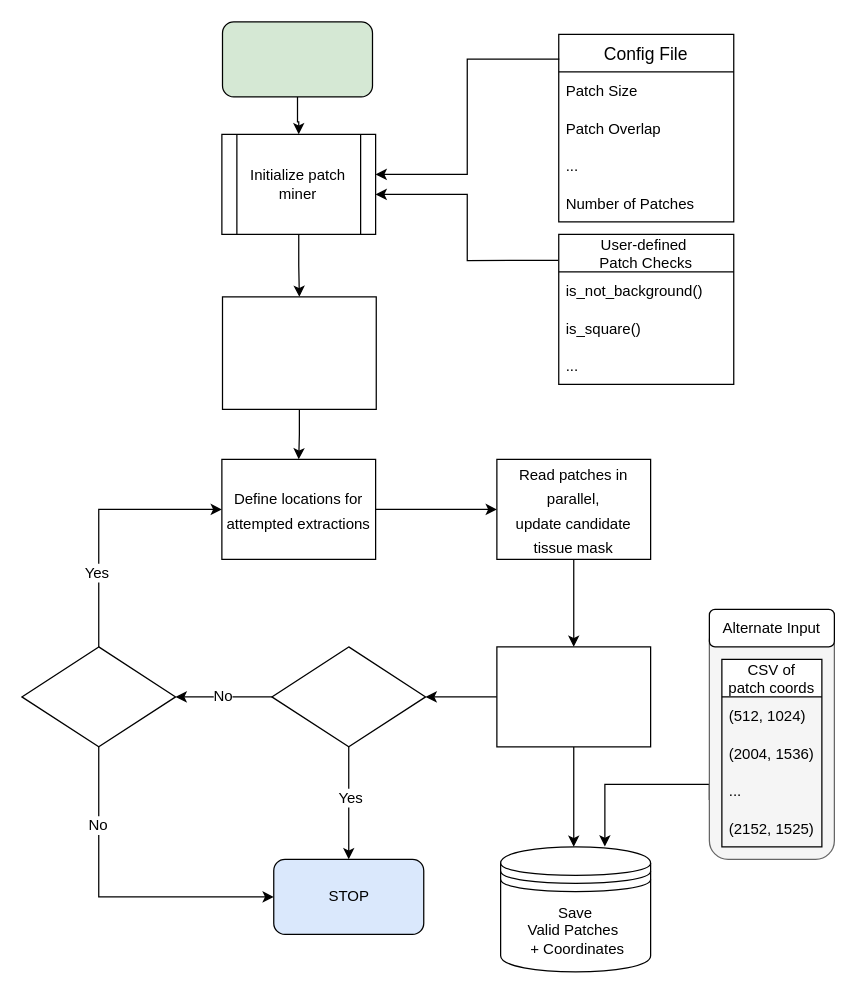
The diagram is 856 pixels wide and 994 high, and some of its shapes have lost their labels. Each missing label, with the centre of its shape:
"Any candidate tissue left?" goes at (x=98, y=696).
"Generate candidate tissue mask" goes at (x=298, y=352).
"n patches saved?" goes at (x=348, y=696).
"Run user checks on each patch" goes at (x=573, y=696).
"START" goes at (x=296, y=59).
